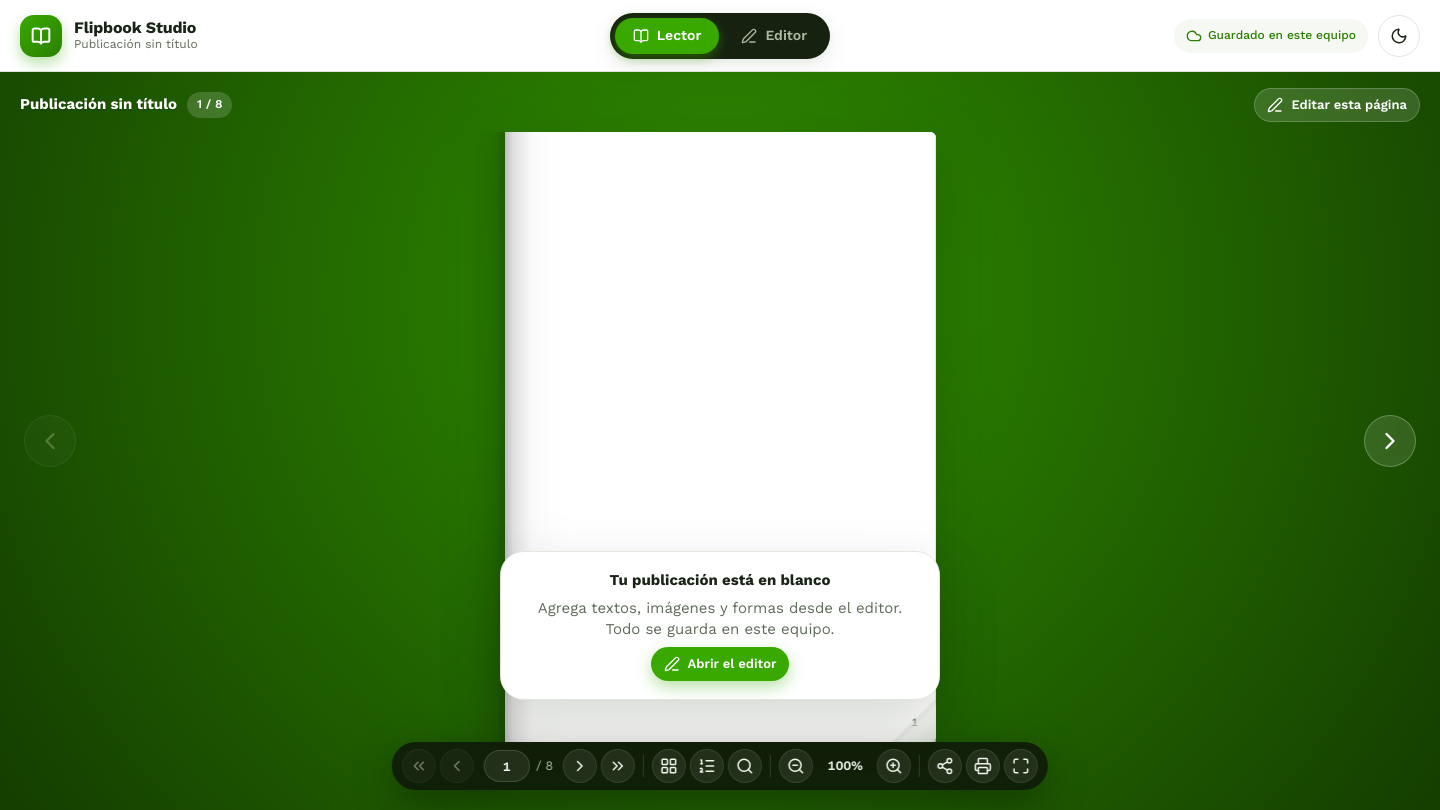
it: integración: lector › controla el zoom con botones y teclado
This screenshot has width=1440, height=810.
Click the button named "Acercar" at (894, 766), box top-left (877, 749), bottom-right (911, 783)
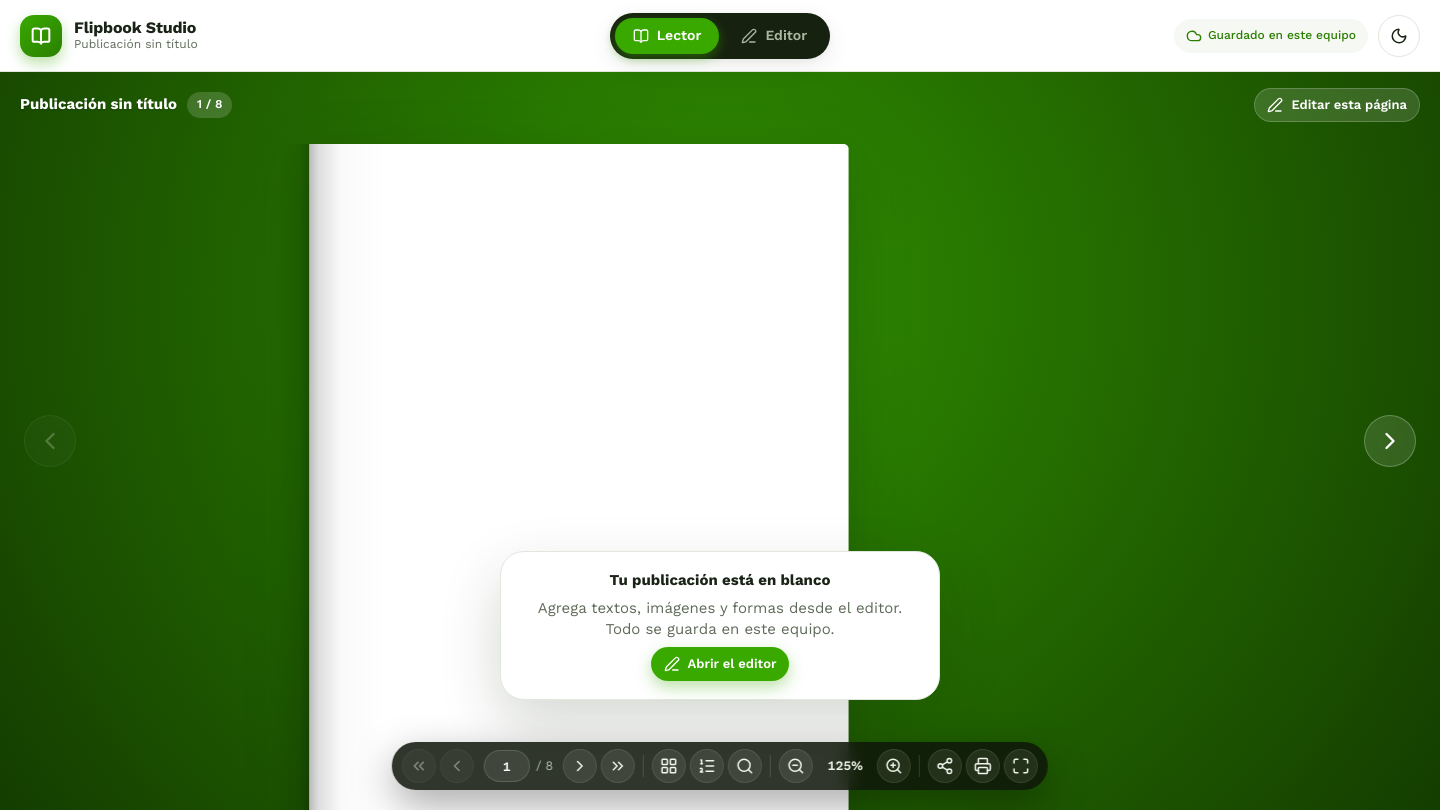
Now the button "125%" is shown, box top-left (817, 750), bottom-right (873, 782)
Press -
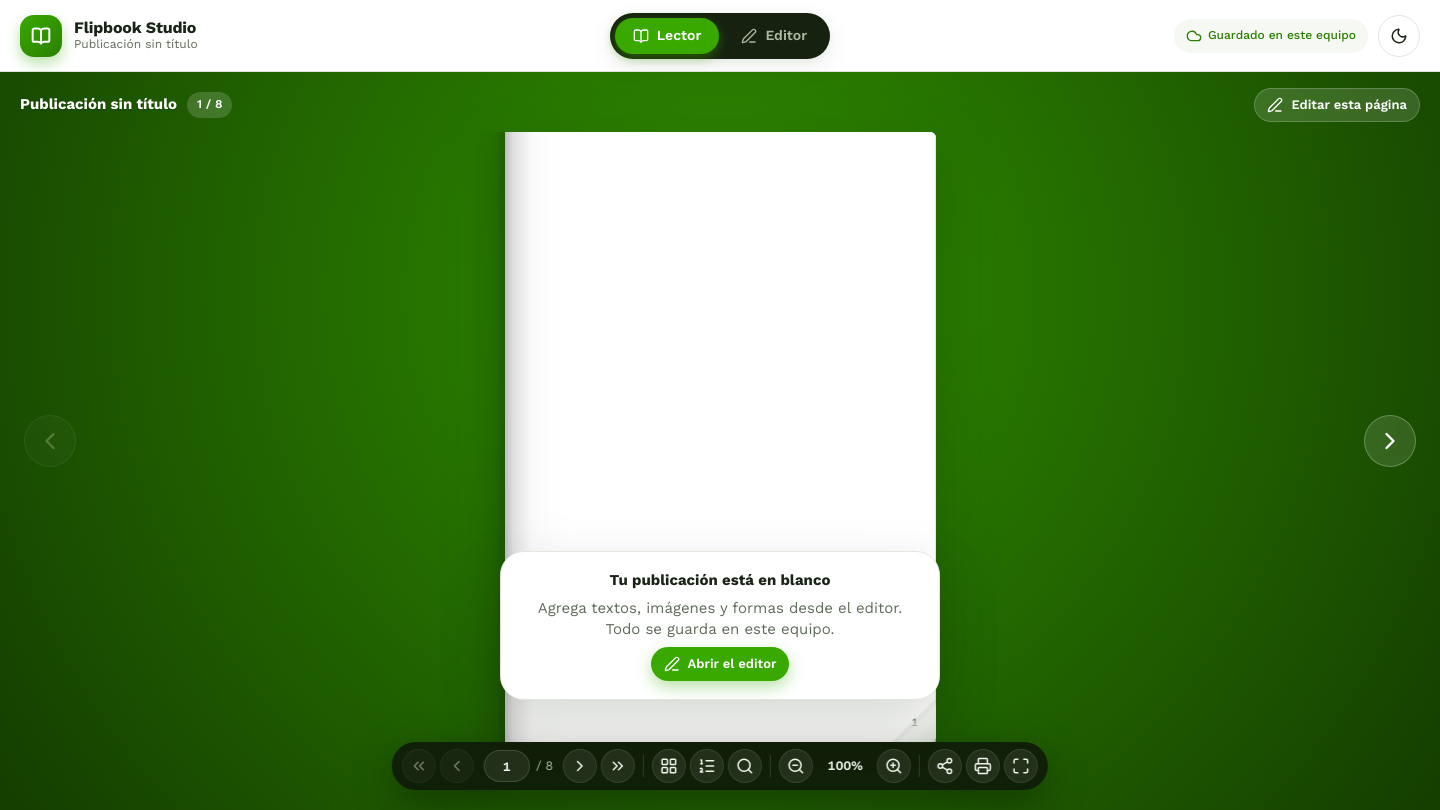
Press -
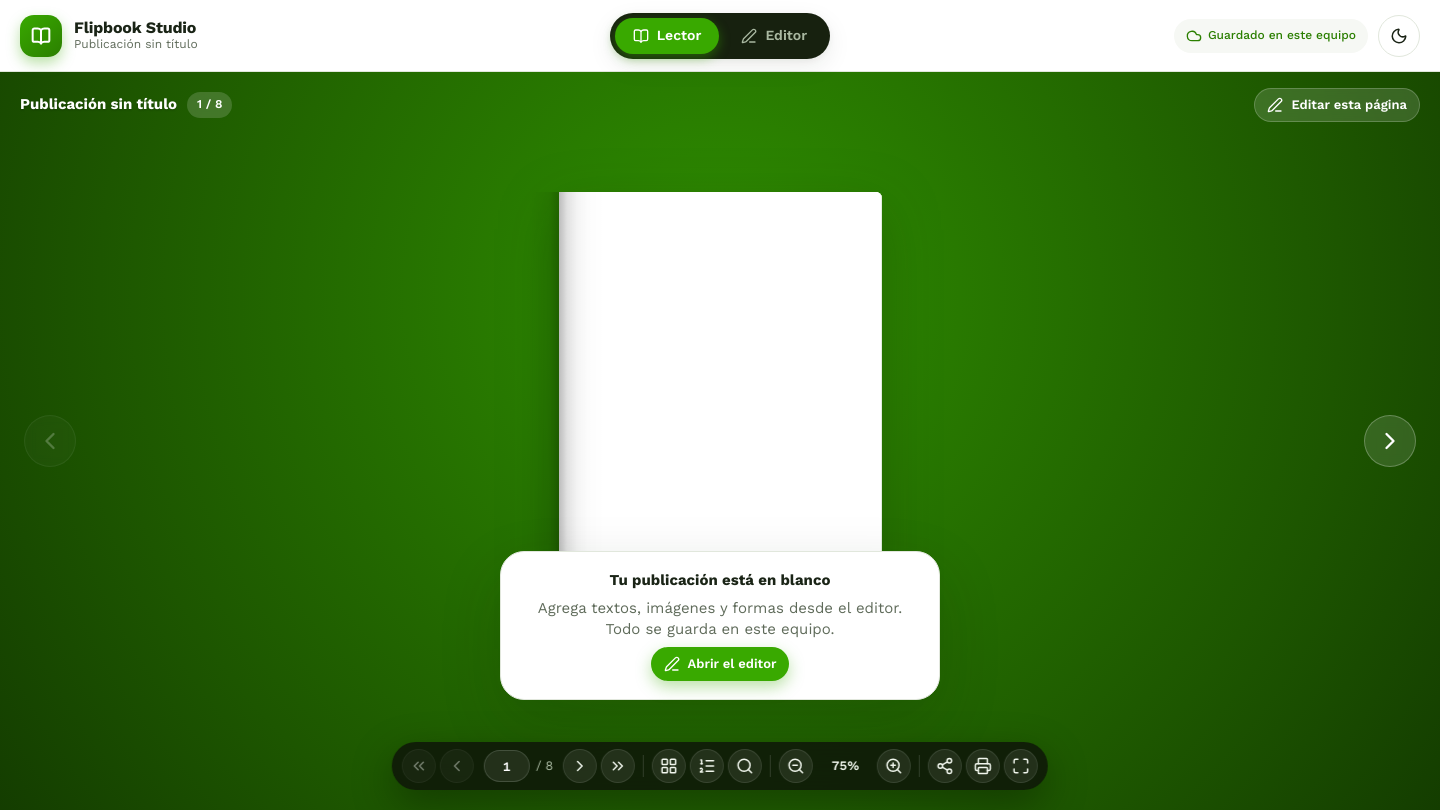
Now the button "75%" is shown, box top-left (817, 750), bottom-right (873, 782)
Press 0
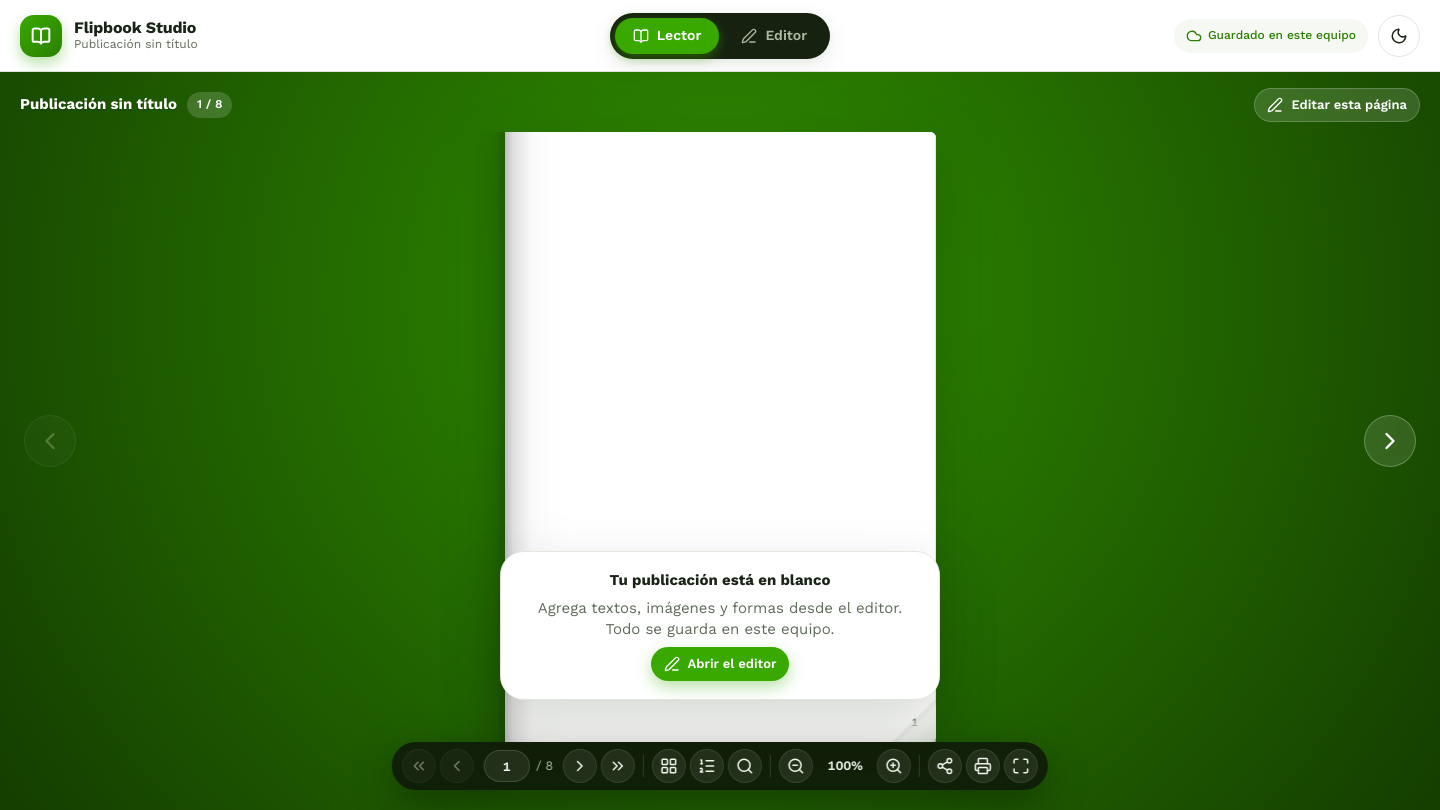
Now the button "100%" is shown, box top-left (817, 750), bottom-right (873, 782)
